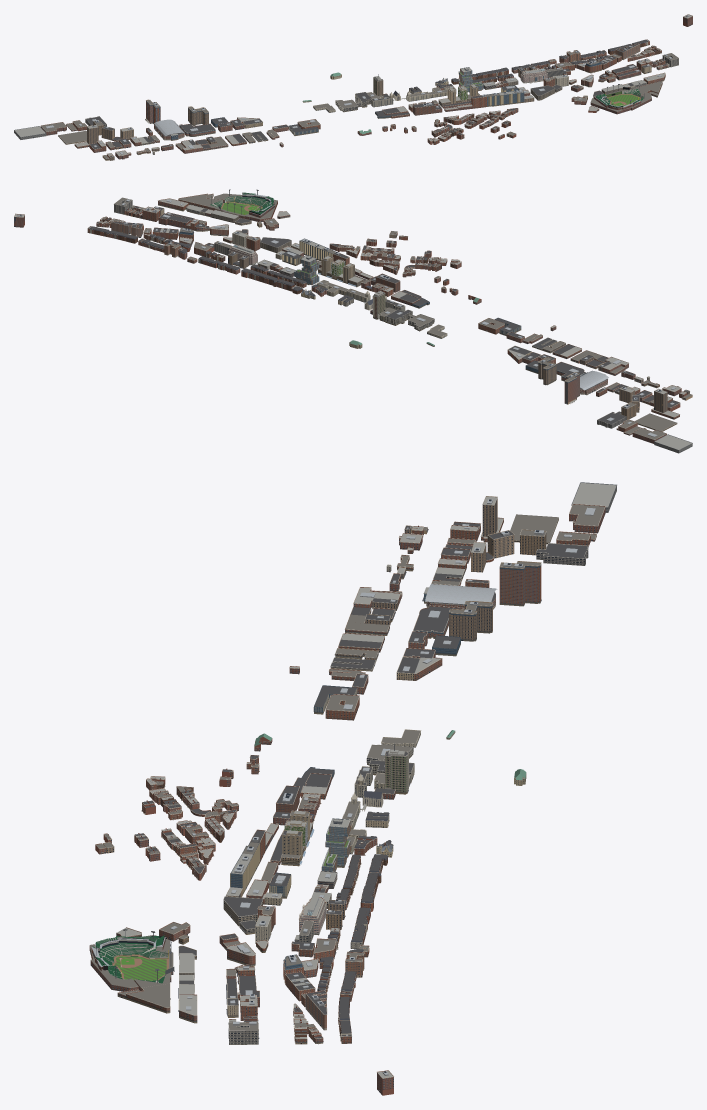
The model's file is buildings-charles-river.glb.
The picture shows the model from 3 angles, top to bottom: view 1: azimuth 30°, elevation 25°; view 2: azimuth 150°, elevation 25°; view 3: azimuth 270°, elevation 25°; orthographic projection. The views are drawn at different scales.
Parts seen in each view (by area): view 1: buildings-charles-river; view 2: buildings-charles-river; view 3: buildings-charles-river.
Boxes of the visible parts, <box> form: buildings-charles-river: <box>14,14,692,160</box>; buildings-charles-river: <box>14,189,692,453</box>; buildings-charles-river: <box>89,482,616,1095</box>.
Size of the model in its own units: 2810 by 105 by 1031.
51 materials, 7 textured.
